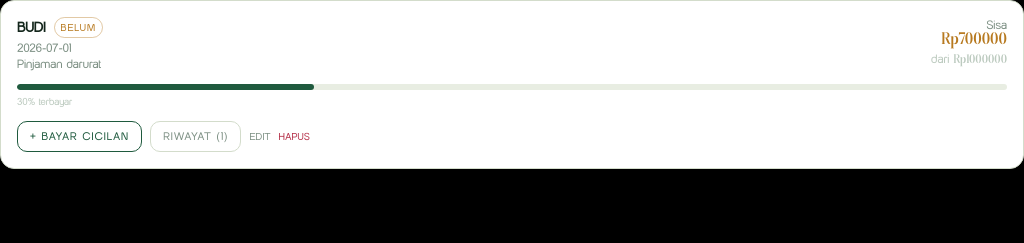
Test: KasbonCard › shows riwayat on Riwayat button click
What coordinates should you click on to do the following:
click the button "Riwayat (1)"
I would click on:
 (196, 136)
Its box is [150,121,241,152].
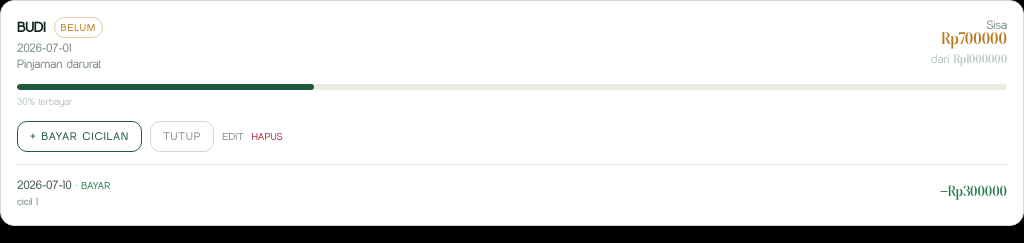
Expected: the text "2026-07-10 · bayar" is shown, [17,176,110,194]
